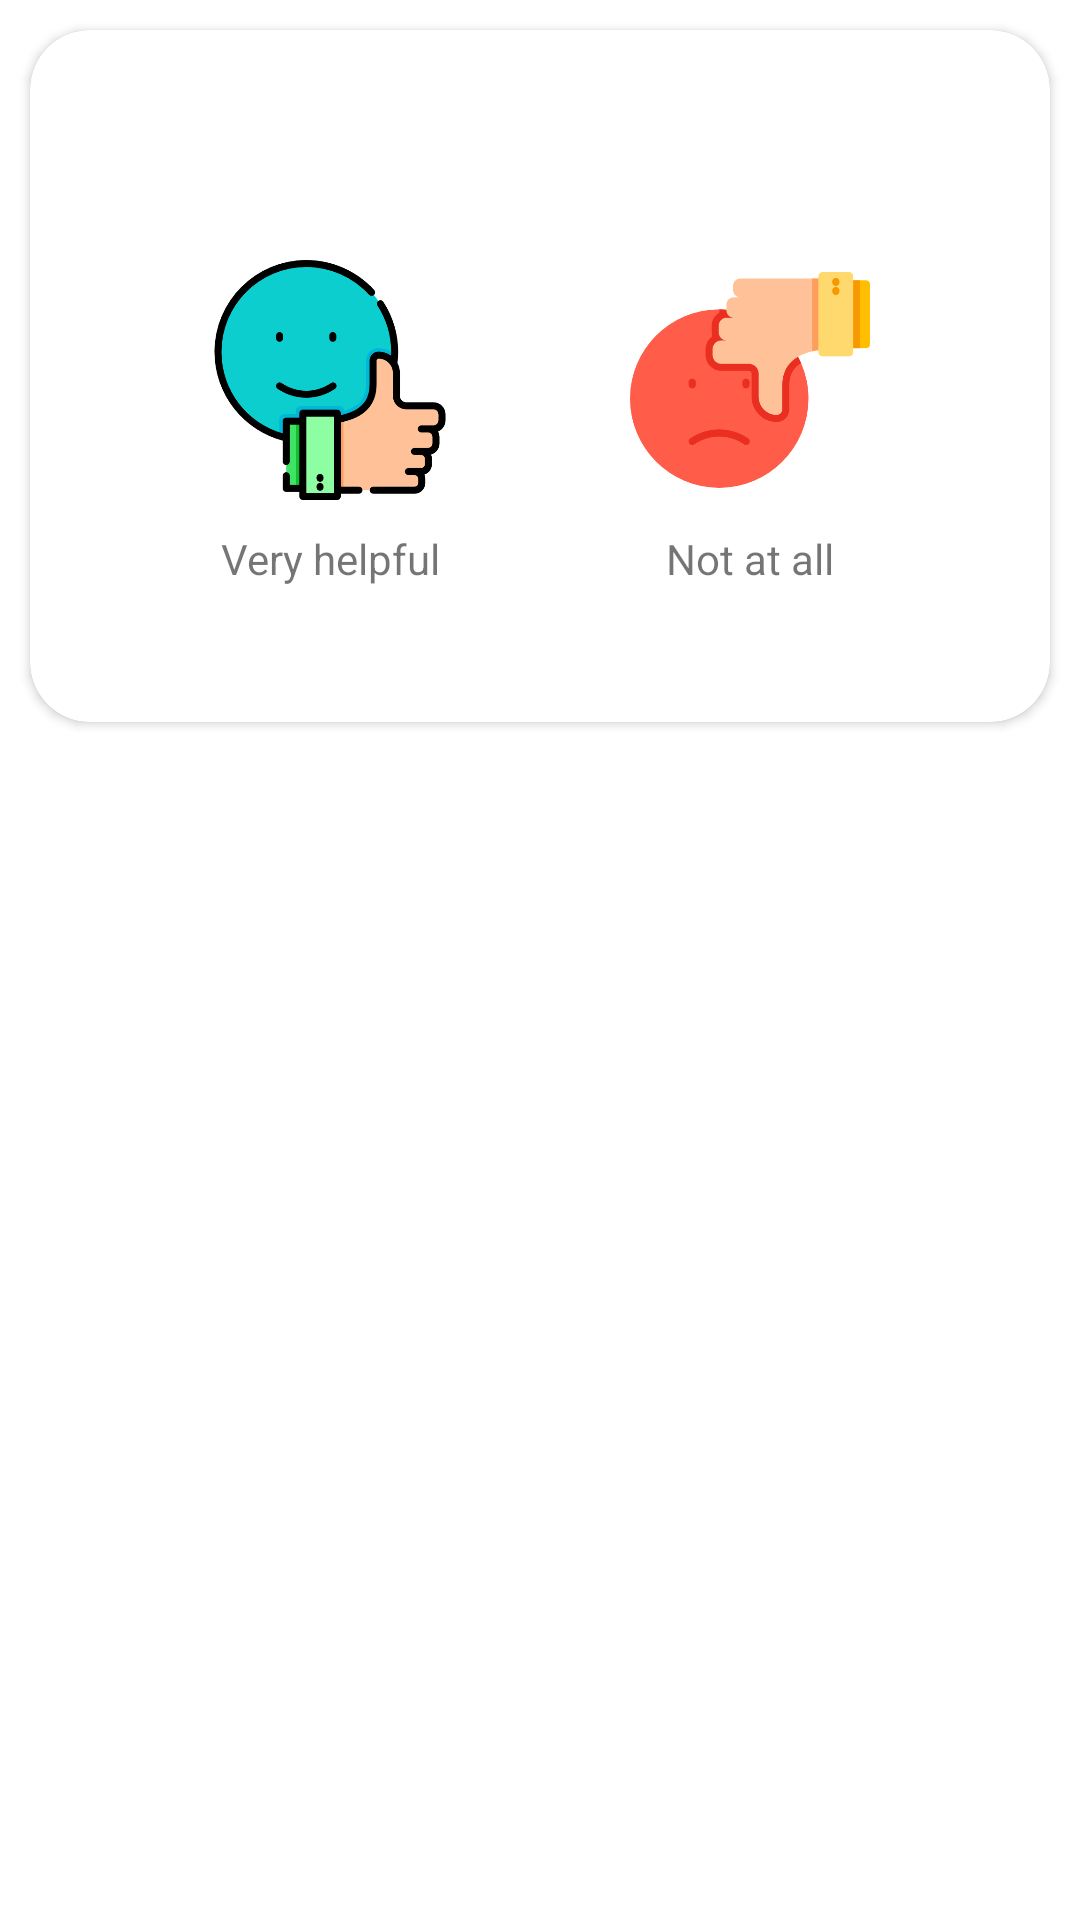

Screen size 1080px×1920px. Icon name, then its center in pixels as (x=x, y=y):
bad: (x=750, y=380)
good: (x=330, y=380)
